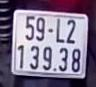1: (16, 42, 26, 70)
2: (66, 18, 77, 45)
3: (29, 45, 41, 72), (58, 47, 69, 72)
5: (24, 14, 35, 39)
8: (70, 48, 84, 74)
9: (42, 45, 53, 71), (36, 17, 46, 41)
L: (54, 16, 66, 43)
